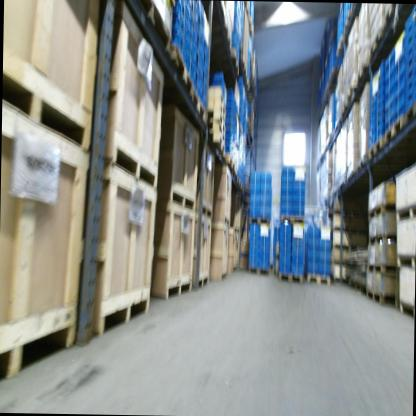pallet: (130, 2, 178, 50), (158, 44, 198, 98), (366, 134, 414, 165), (369, 28, 403, 67), (357, 155, 408, 178), (383, 116, 416, 149), (206, 12, 233, 48), (204, 48, 239, 74), (194, 89, 211, 124), (366, 260, 397, 279), (340, 8, 361, 36), (232, 59, 251, 89), (367, 203, 397, 221), (207, 117, 227, 143), (207, 129, 226, 156), (344, 275, 365, 299), (366, 289, 395, 306), (366, 233, 399, 247), (402, 100, 416, 132), (344, 82, 361, 107), (326, 63, 343, 88), (210, 85, 226, 110), (210, 111, 227, 133), (305, 273, 331, 287), (356, 62, 371, 86), (278, 214, 305, 226), (248, 263, 269, 278), (279, 270, 303, 283), (332, 38, 347, 58), (211, 98, 225, 119), (383, 4, 396, 25), (250, 214, 272, 225), (224, 153, 237, 170), (332, 115, 344, 133), (244, 128, 253, 150), (346, 169, 359, 184), (245, 91, 259, 103), (337, 176, 347, 190), (231, 168, 238, 183), (249, 77, 256, 89), (249, 18, 253, 37), (236, 178, 241, 189), (241, 184, 245, 194)
small_load_carrier: (291, 201, 306, 215), (290, 168, 305, 182), (317, 260, 331, 275), (317, 248, 332, 261), (279, 202, 293, 215), (317, 235, 330, 249), (306, 248, 318, 263), (291, 190, 305, 202), (291, 243, 305, 255), (278, 262, 291, 274), (306, 236, 318, 248), (291, 263, 303, 275), (305, 263, 318, 274), (257, 223, 270, 234), (247, 255, 258, 268), (260, 169, 270, 183), (291, 234, 306, 243), (260, 183, 271, 195), (259, 205, 271, 216), (318, 227, 331, 237), (290, 253, 303, 263), (291, 225, 305, 234), (250, 202, 259, 216), (281, 172, 292, 183), (280, 223, 291, 234), (260, 194, 271, 205), (306, 226, 318, 236), (292, 181, 305, 190), (281, 183, 292, 193), (258, 240, 269, 250), (258, 257, 268, 268), (249, 191, 259, 202), (280, 194, 292, 203), (278, 252, 290, 261), (279, 234, 291, 243), (279, 242, 290, 251), (258, 231, 269, 240), (248, 248, 259, 257), (250, 183, 260, 192), (281, 165, 292, 173), (253, 170, 260, 182), (250, 231, 259, 240), (258, 249, 268, 257), (249, 241, 259, 248), (249, 224, 259, 231)
